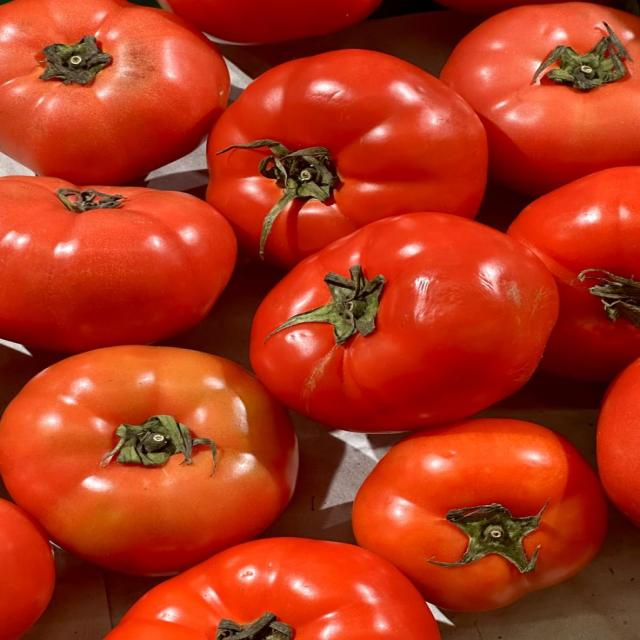tomato: (0, 346, 297, 574), (251, 213, 558, 431), (207, 50, 486, 267), (353, 419, 606, 611), (0, 0, 229, 184), (0, 177, 236, 351), (441, 2, 639, 195), (107, 538, 439, 639), (508, 167, 639, 380), (159, 0, 381, 44), (0, 500, 55, 639), (597, 360, 639, 526), (438, 0, 566, 15)
